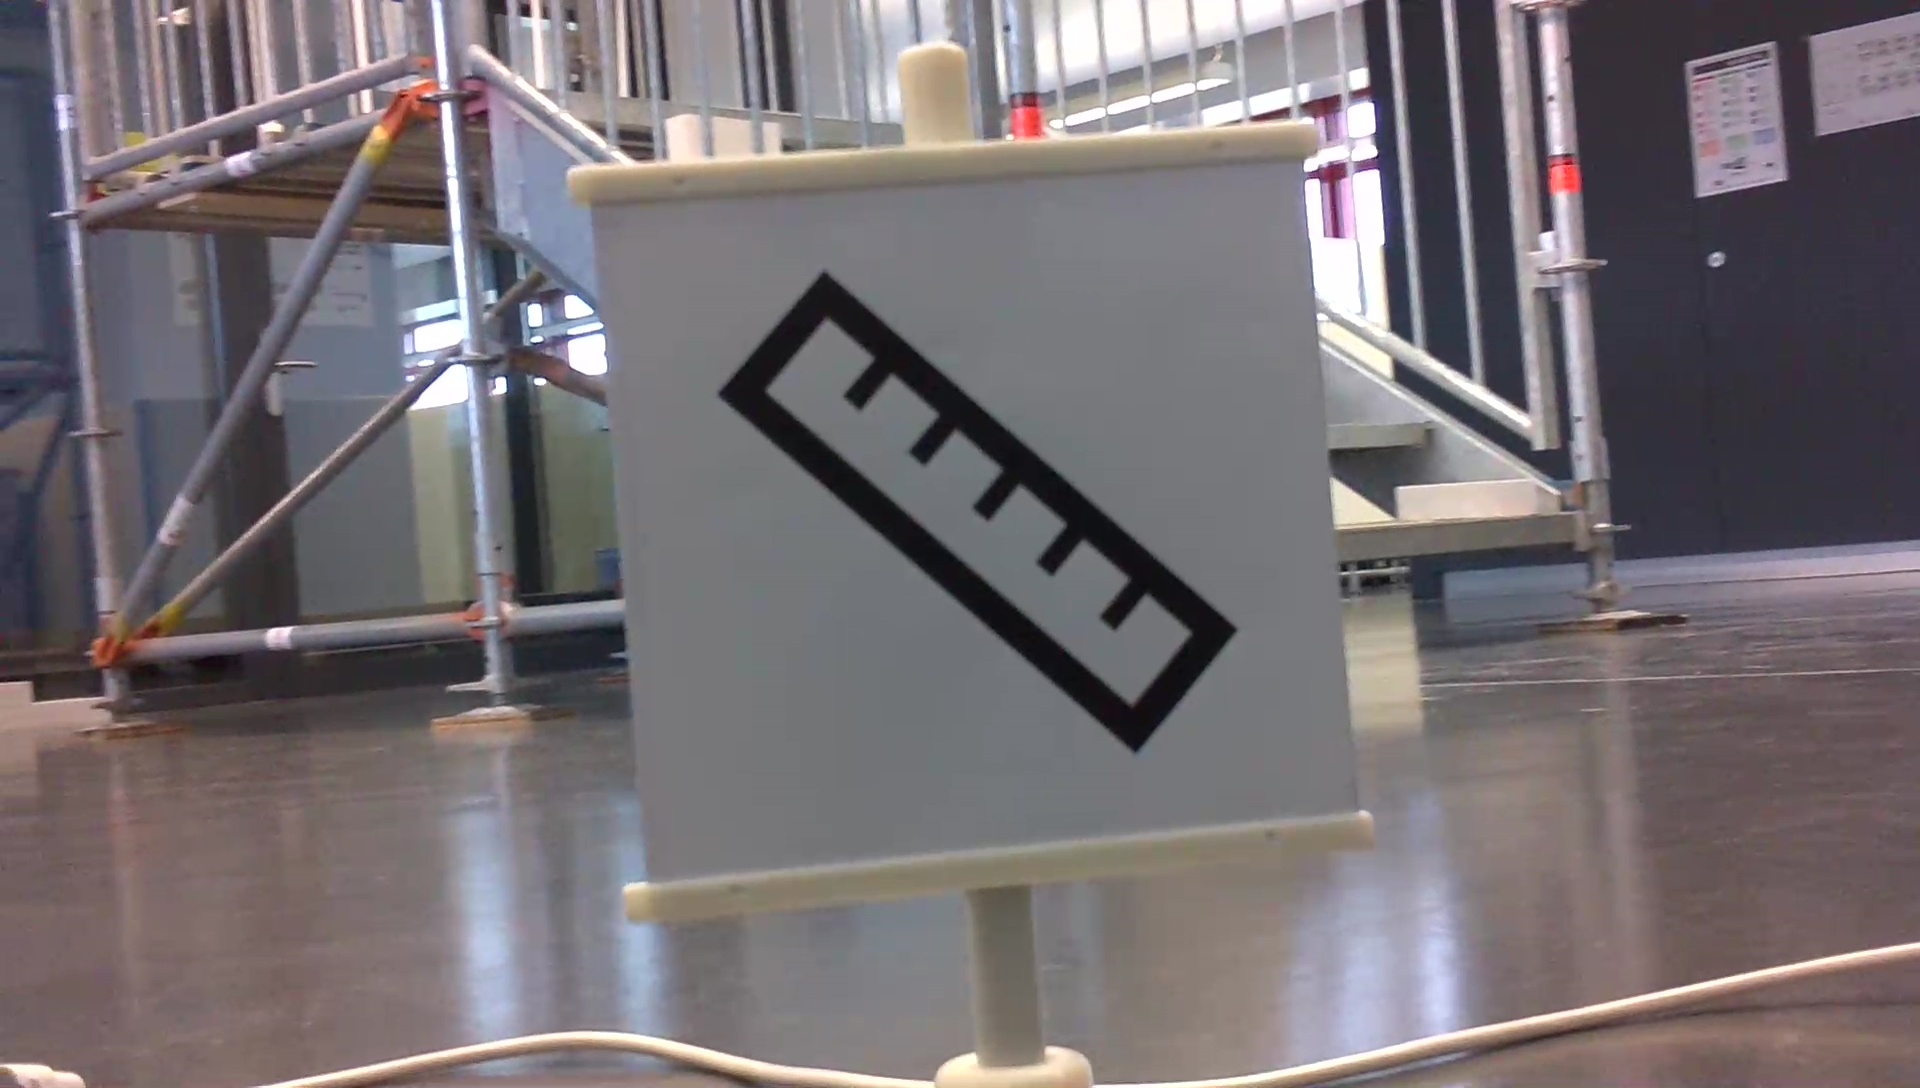brick: (1398, 479, 1536, 524)
ruler: (695, 261, 1255, 762)
